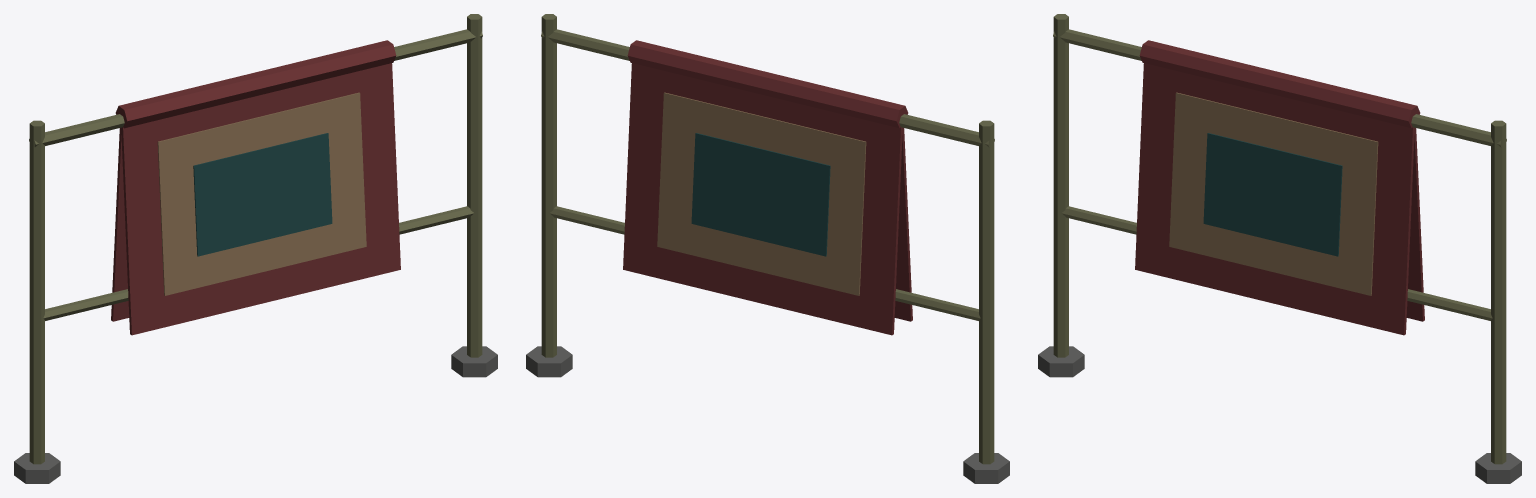
The model's file is batator.glb.
The picture shows the model from 3 angles, left to right: view 1: azimuth 30°, elevation 25°; view 2: azimuth 150°, elevation 25°; view 3: azimuth 330°, elevation 25°; orthographic projection.
Parts seen in each view (by area): view 1: Batator; view 2: Batator; view 3: Batator.
Part boxes in pixels (x1=…): Batator: x1=14, y1=14, x2=497, y2=483; Batator: x1=526, y1=14, x2=1009, y2=483; Batator: x1=1038, y1=14, x2=1521, y2=483.
Bounding box in the file's own units: 2.81 × 2 × 0.24.
